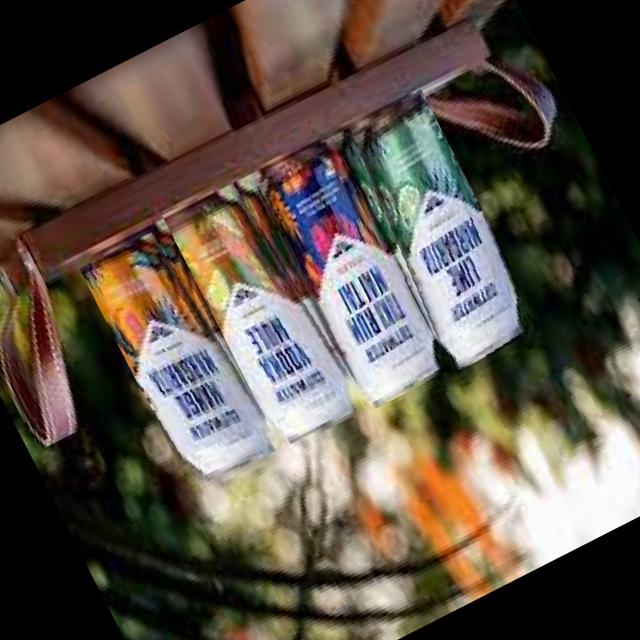Cans: (161, 169, 374, 458), (328, 86, 541, 374), (78, 222, 285, 496), (248, 136, 451, 412)
